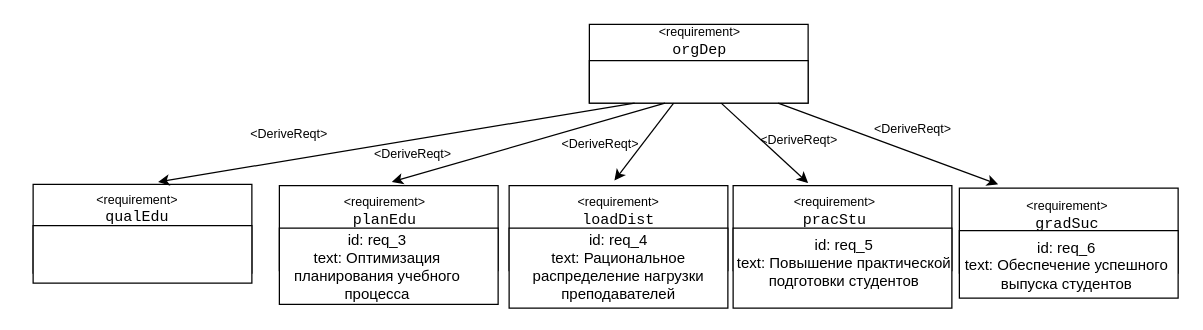
Image size: 1203x330. Some labels were removed from this diagram. The box of each missing label's shape, as (x1, y1, x2, y2) in pixels:
id: req_1 text: Кафедра в университете: (588, 59, 808, 103)
id: req_2 text: Повышение качества образовательного процесс: (32, 224, 252, 283)
